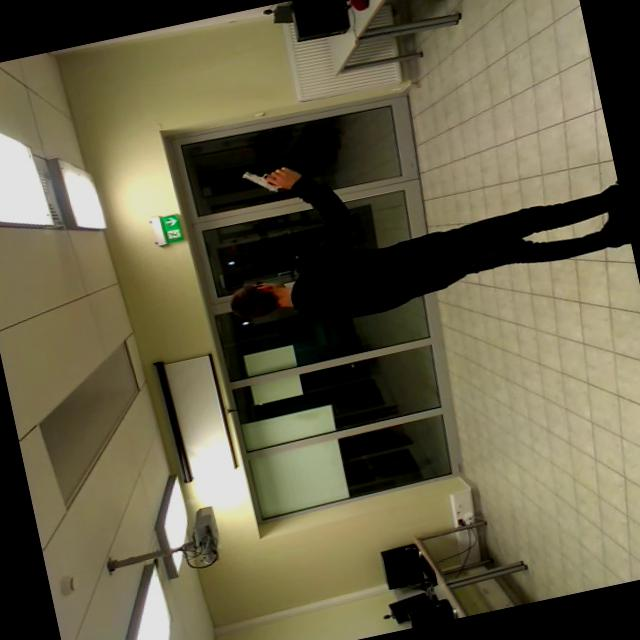handgun: (232, 154, 298, 200)
